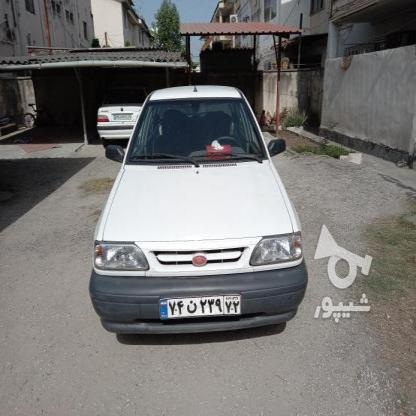licence: (158, 297, 240, 316), (113, 112, 130, 117)
